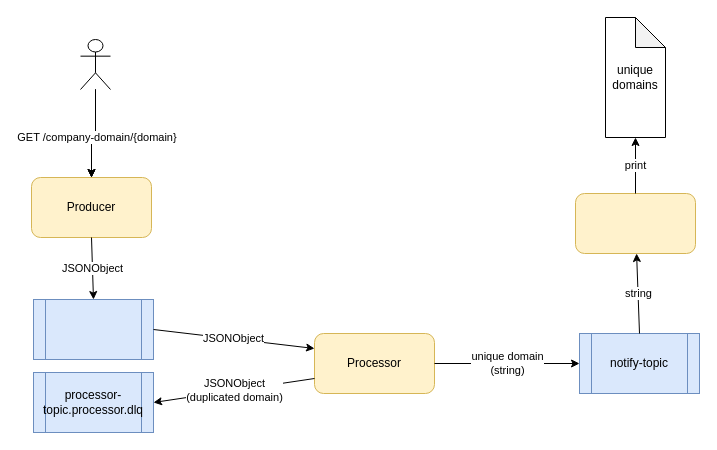
The diagram is 717 pixels wide and 450 high, and some of its shapes have lost their labels. The shapes that lost their labels are listed below. From the top down, each one's box as (x1, y1, x2, y2) in pixels, then its label:
(80, 38, 110, 90): Browser
(574, 192, 696, 254): Consumer
(32, 298, 154, 360): processor-topic
